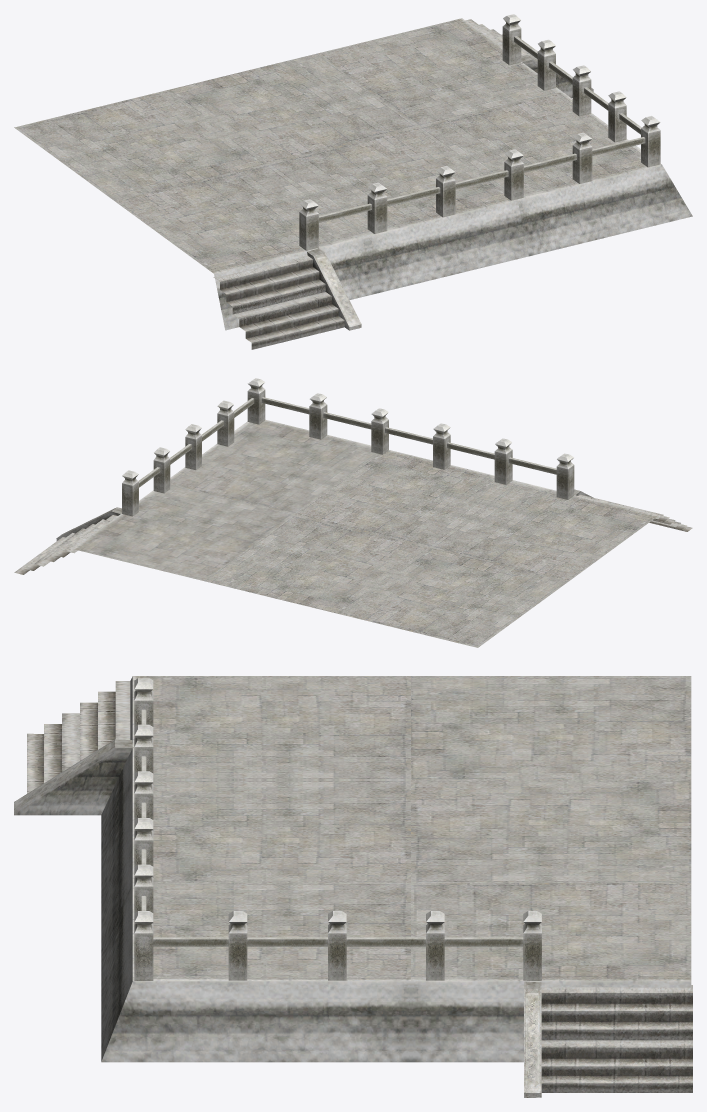
Rendered from snow_tower01_02.glb.
3 views of the same model, one above another, from view 1: azimuth 30°, elevation 25°; view 2: azimuth 150°, elevation 25°; view 3: azimuth 270°, elevation 25° (orthographic). The views are drawn at different scales.
Visible parts, largest first — view 1: snow_tower02_04; view 2: snow_tower02_04; view 3: snow_tower02_04.
Boxes of the visible parts, x1,y1,x2,y2 form: snow_tower02_04: [14, 14, 692, 349]; snow_tower02_04: [14, 378, 692, 647]; snow_tower02_04: [14, 676, 692, 1097].
Size of the model in its own units: 42.52 by 7.32 by 34.43.
Materials: 1 (1 with a texture image).
